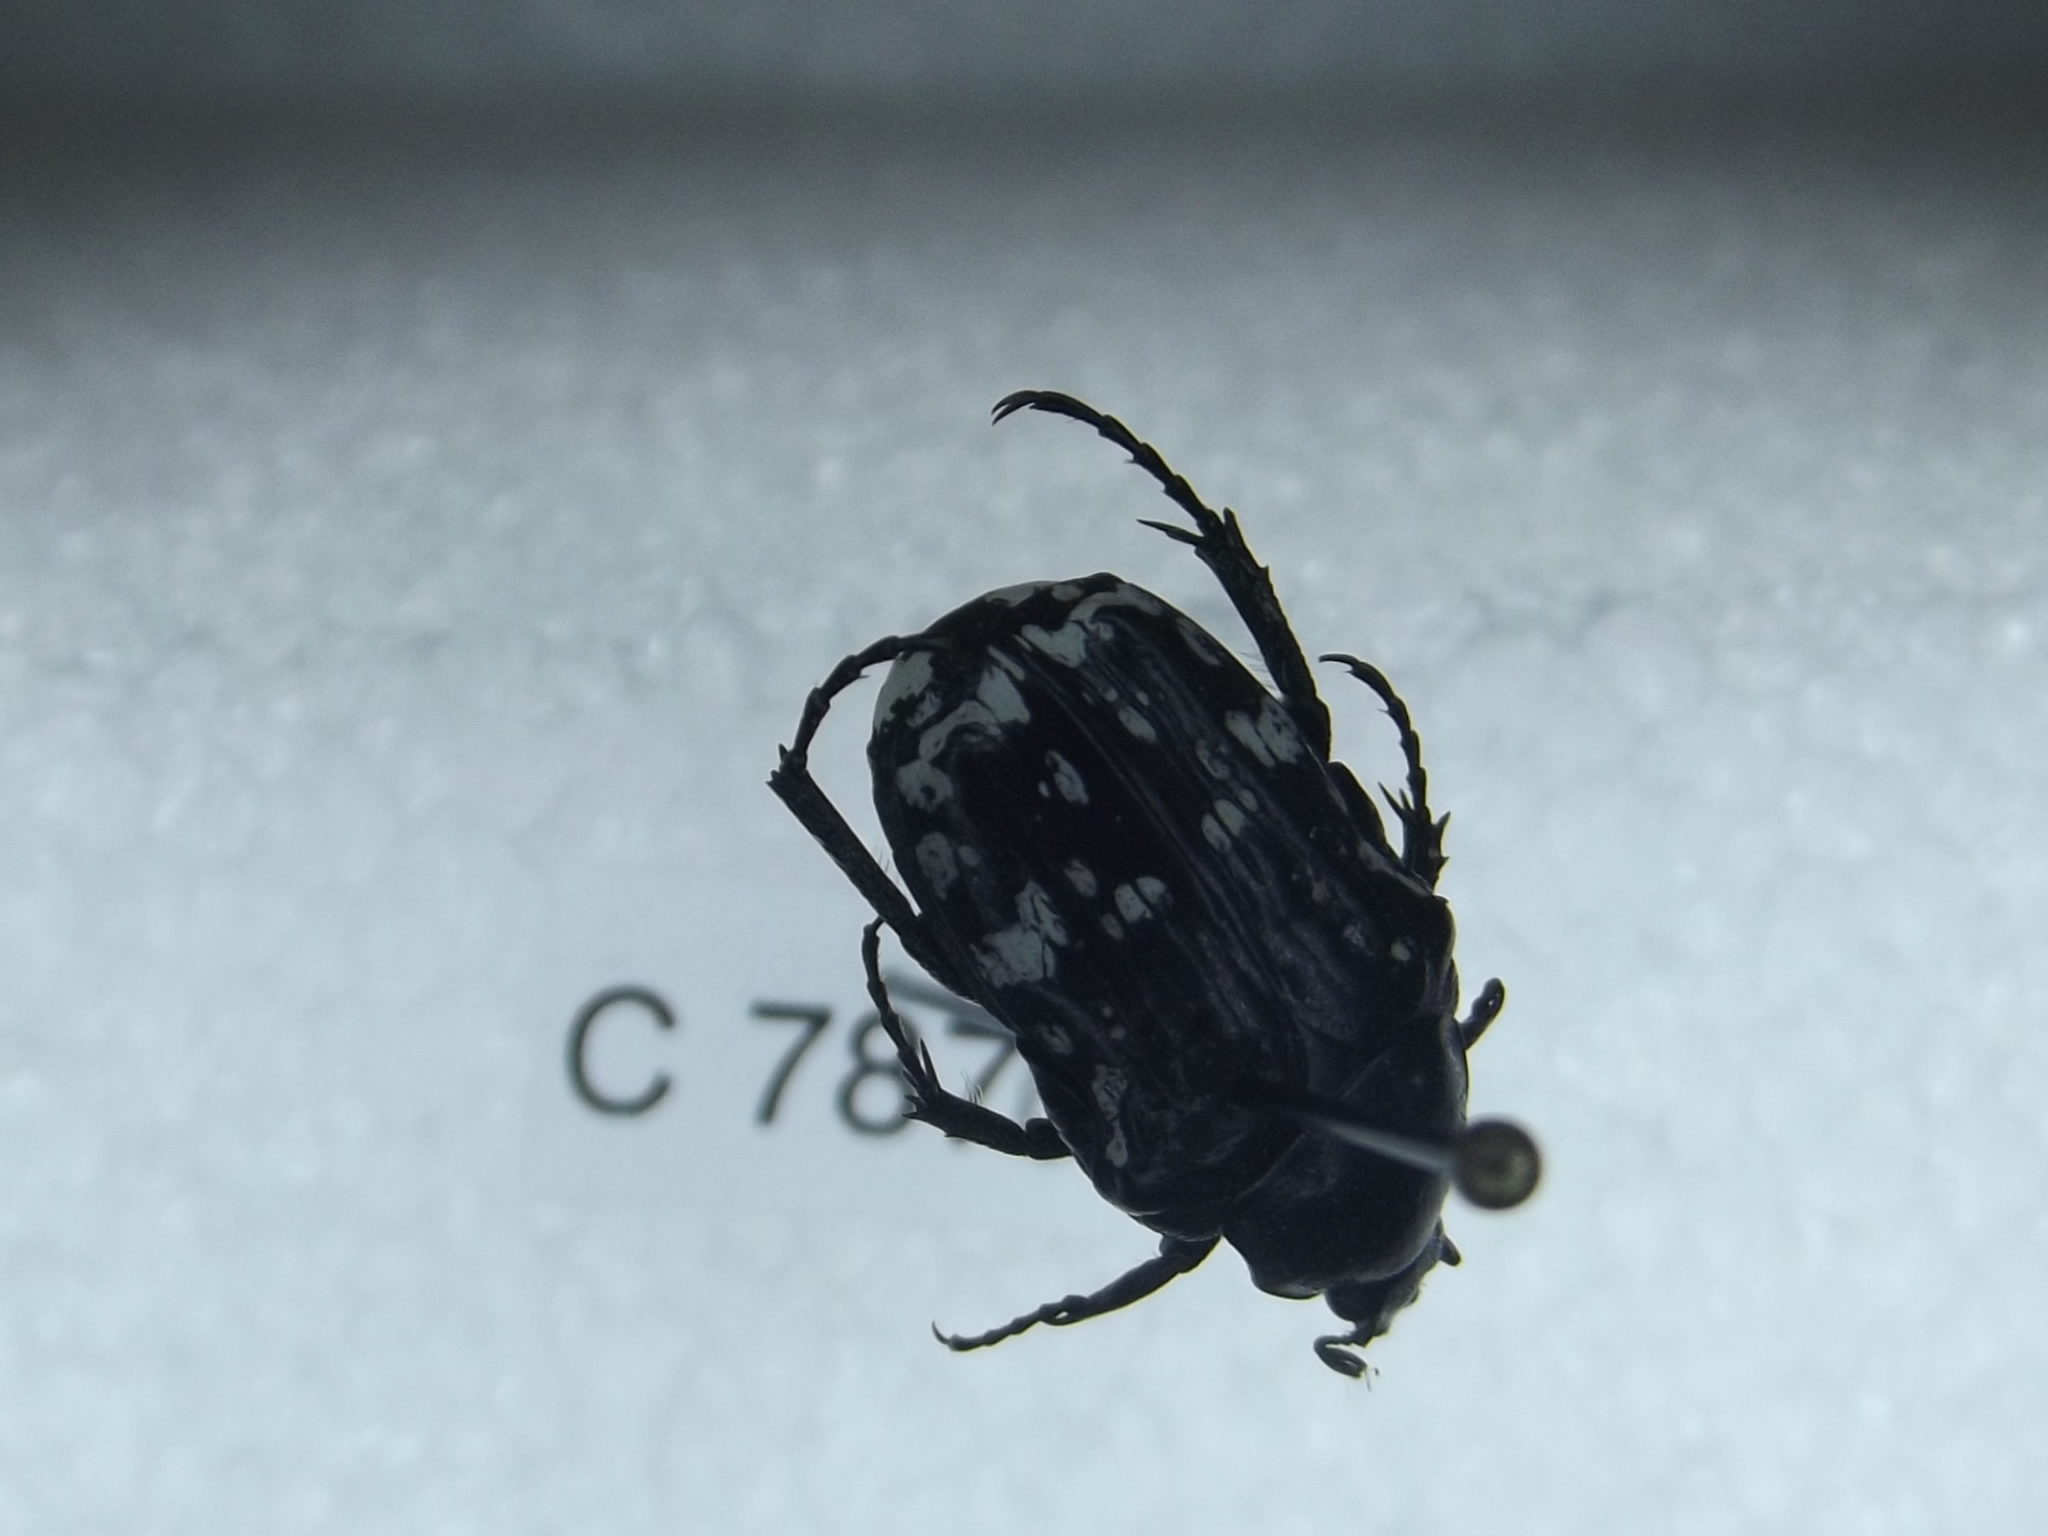Oxythyrea_albopicta: (763, 358, 1471, 1384)
